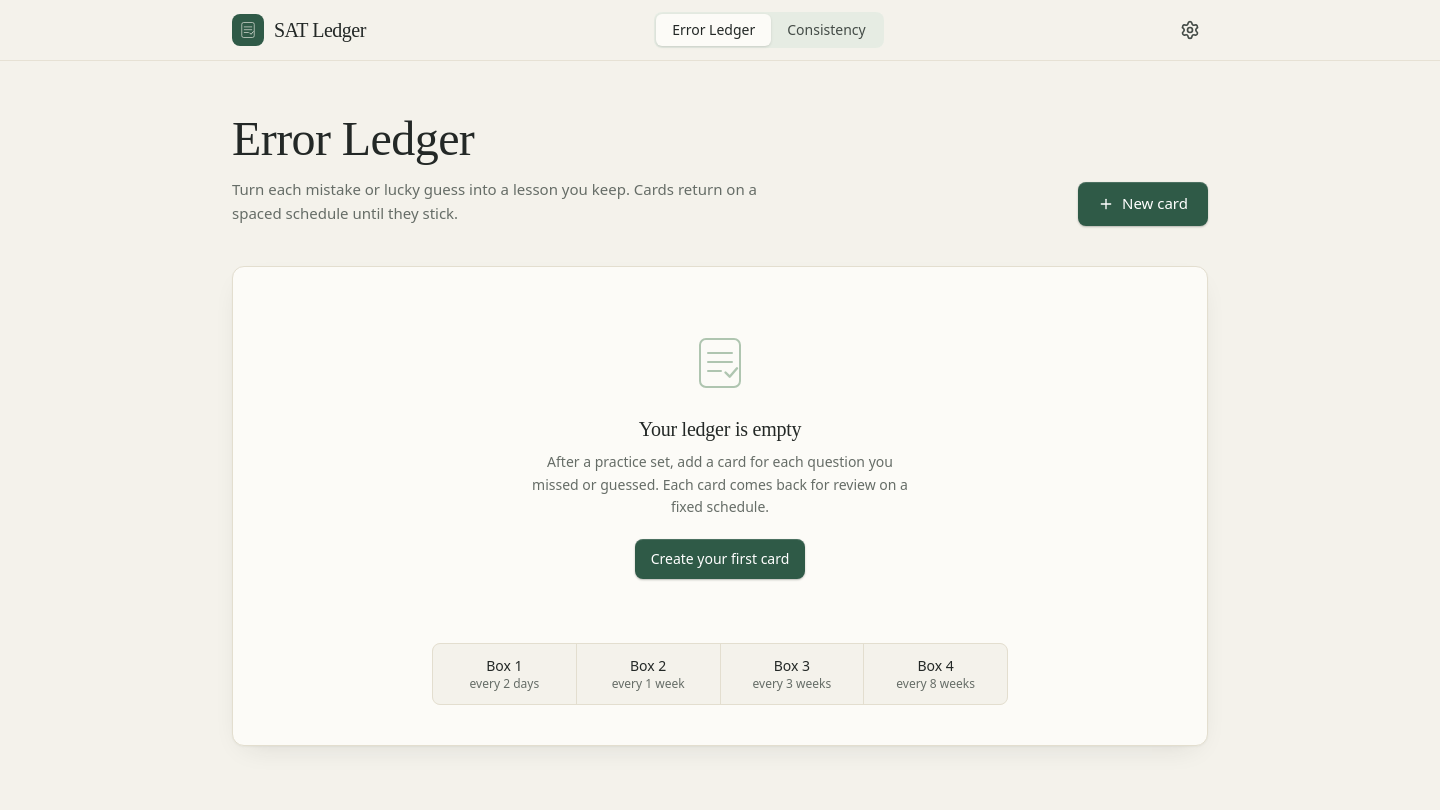
Consistency › counts the minutes of a session that was not completed, but not the session itself
Click the tab "Consistency" at [826, 30], box [771,14,882,46]
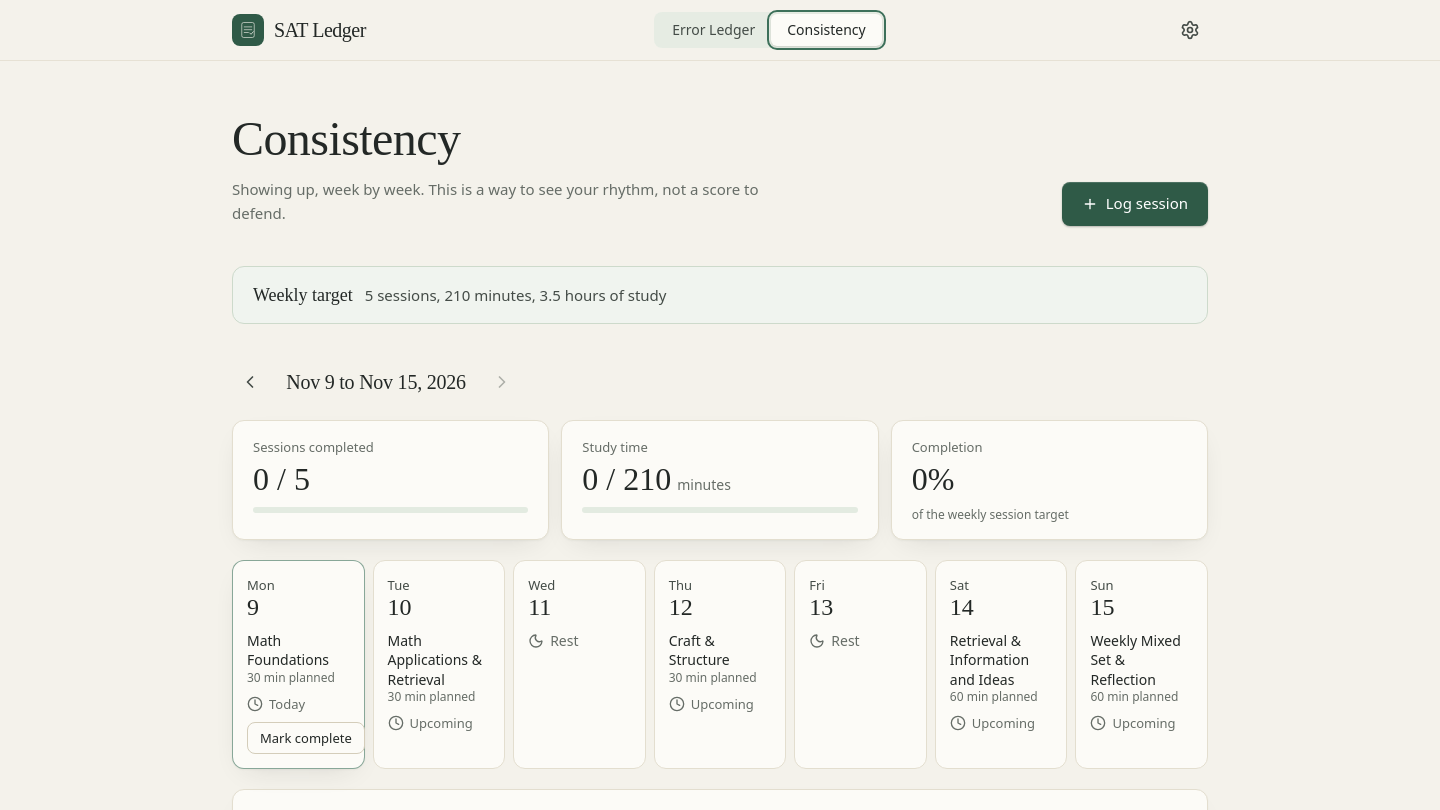
Check: the heading "Consistency" is shown, box [232,112,460,165]
Click the button "Log session" at [1135, 204], box [1062,182,1208,226]
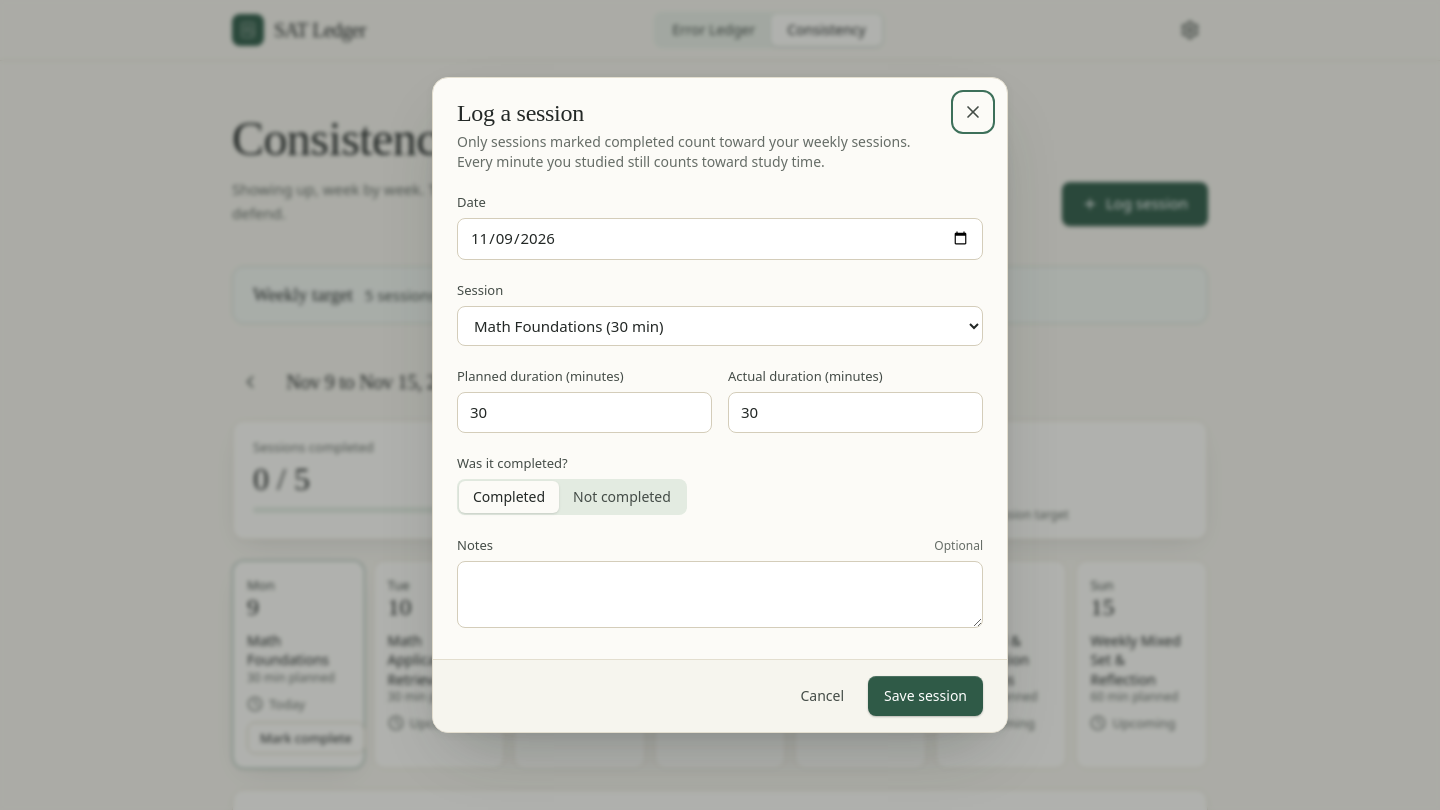
Replace the text in the number field labelled "Actual duration (minutes)" with "15" at [856, 412], box [728,392,983,433]
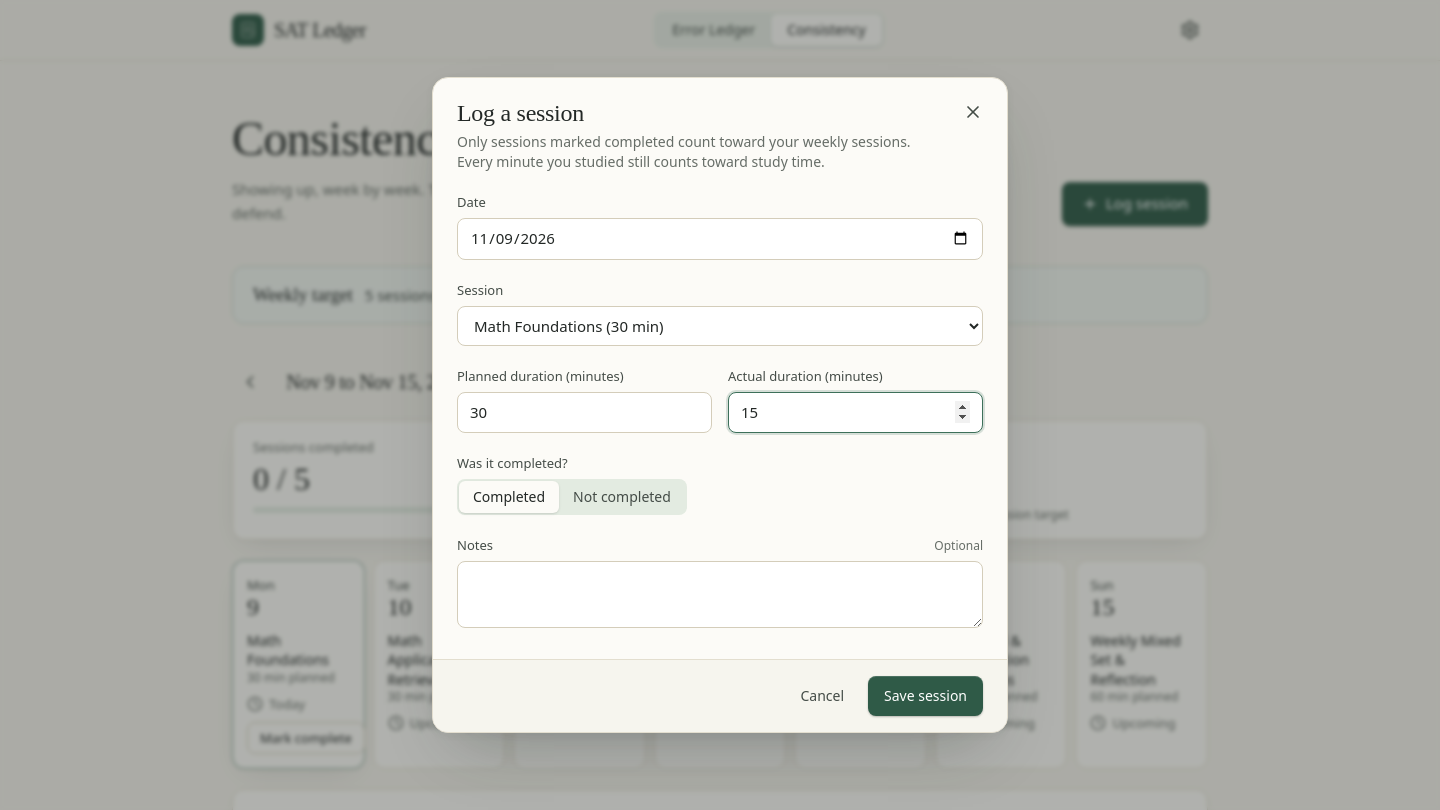
Click the radio button labelled "Not completed" at [622, 497], box [573,487,671,506]
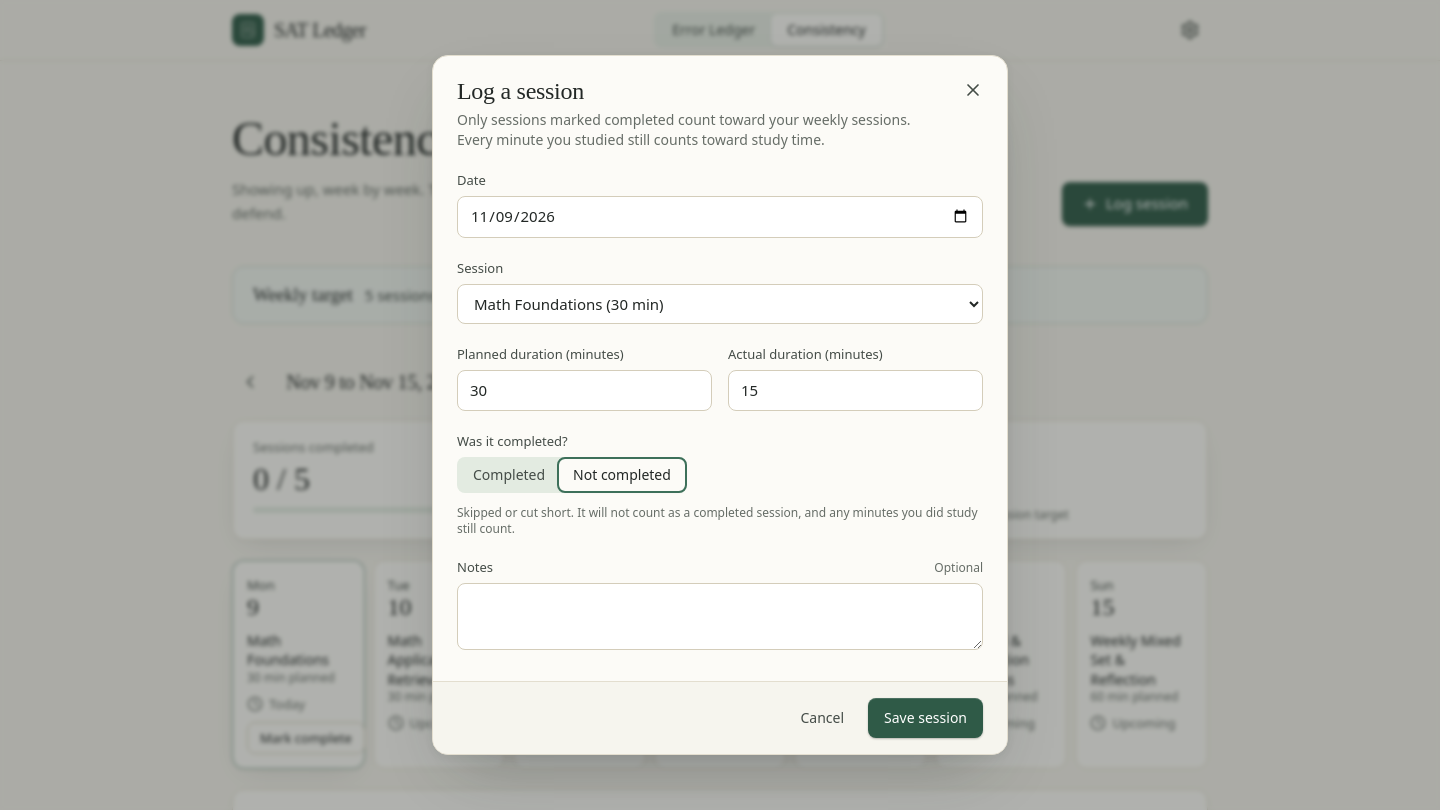
Click the button "Save session" at [926, 718], box [868,698,983,738]
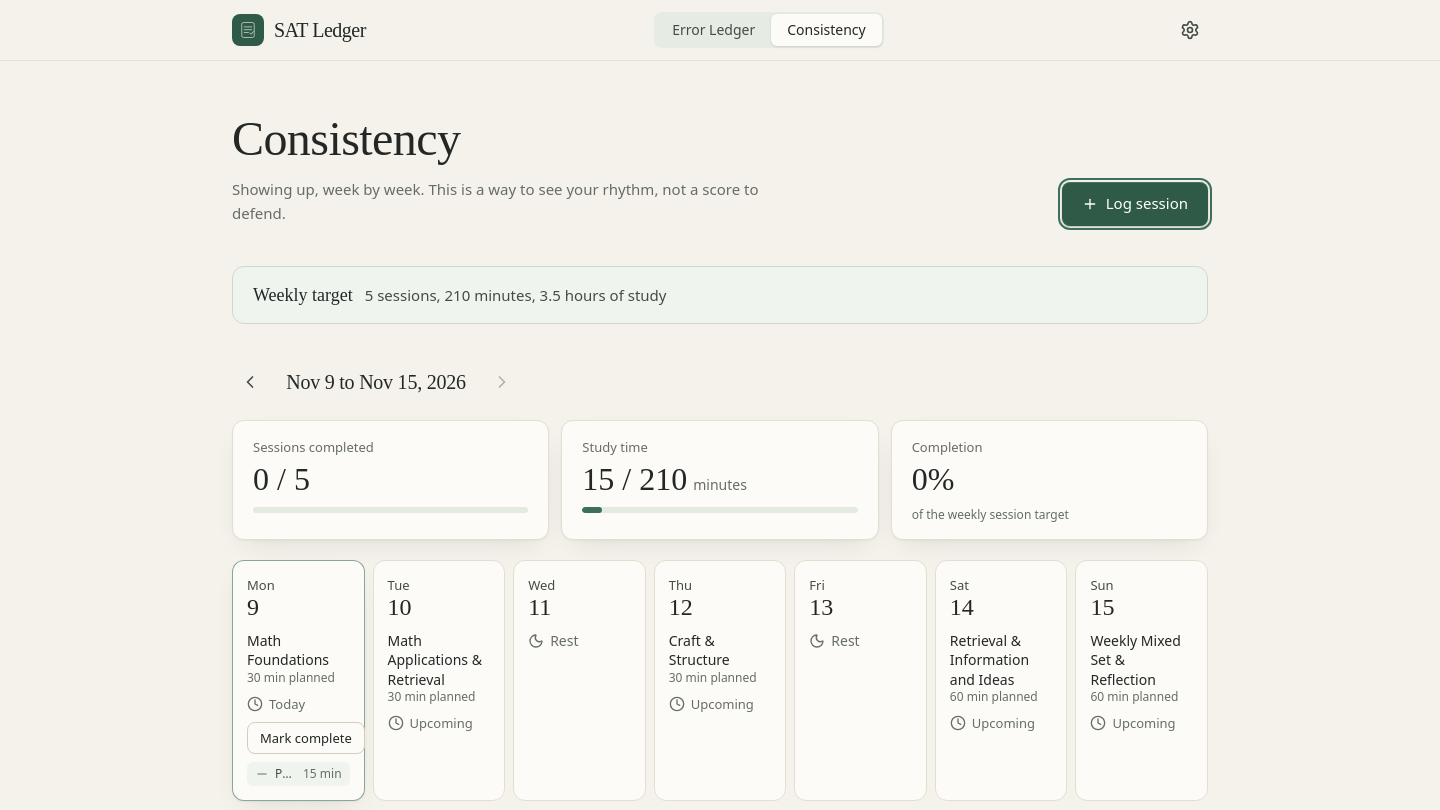
Check: the text "0 / 5" is shown, box [253,459,310,499]
Check: the text "15 / 210" is shown, box [582,459,687,499]
